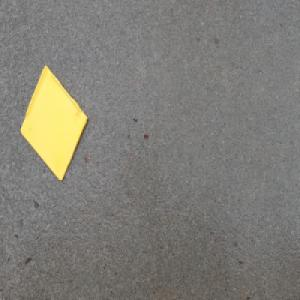PlasticPart: (19, 62, 88, 182)
